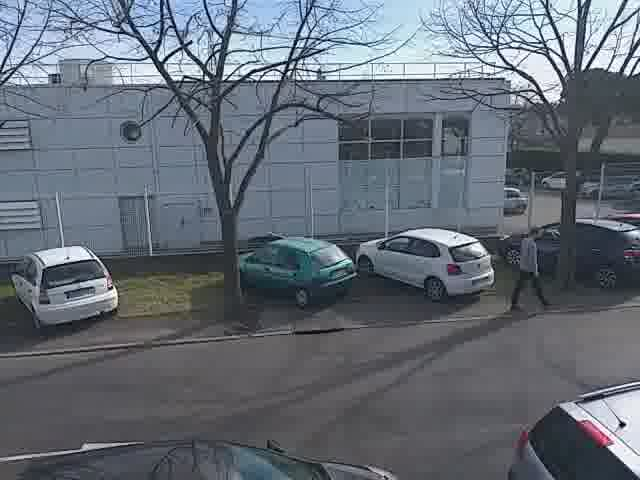persona: (509, 220, 551, 316)
